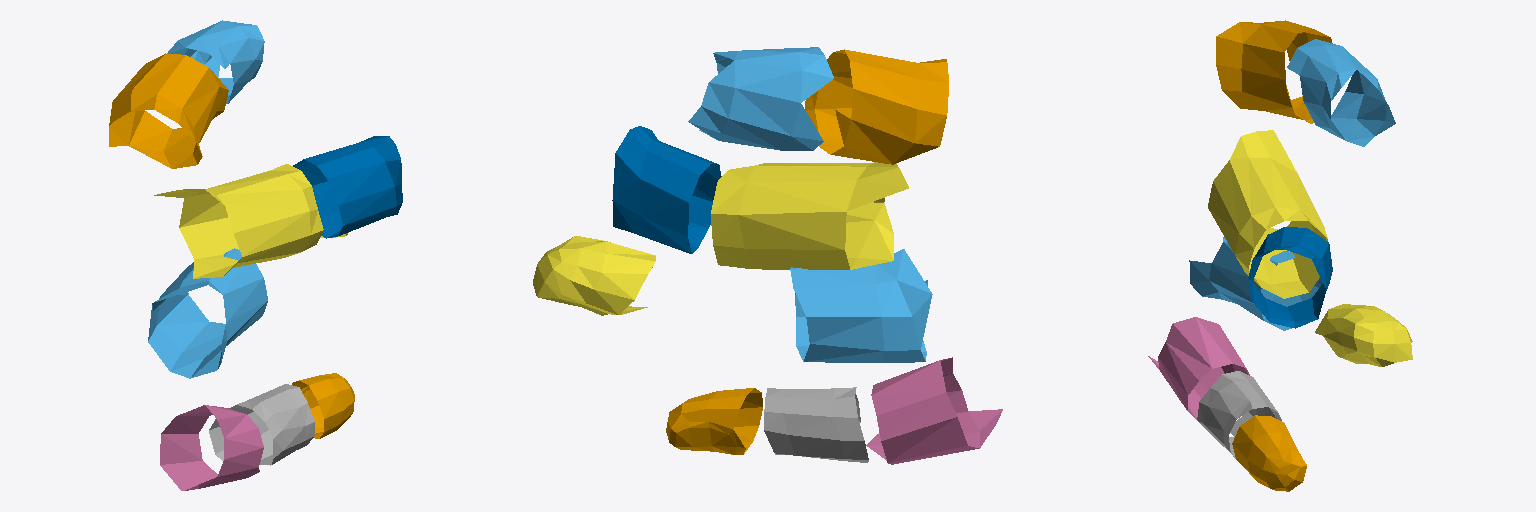
URDF robot description (mano_hand):
<robot name="mano_hand">
  <link name="root">
    <mass value="0.01"/>
    <inertial>
      <origin xyz="0 0 0" rpy="0 0 0"/>
      <mass value="0.01"/>
      <inertia ixx="1E-06" ixy="0" ixz="0" iyy="1E-06" iyz="0" izz="1E-06"/>
    </inertial>
  </link>
  <joint name="L_forearm_tx_link_joint" type="prismatic">
    <parent link="L_forearm_tx_link"/>
    <child link="L_forearm_ty_link"/>
    <axis xyz="1 0 0"/>
    <limit lower="-2.0" upper="2.0" effort="100" velocity="5"/>
  </joint>
  <link name="L_forearm_tx_link">
    <mass value="0.01"/>
  </link>
  <joint name="L_forearm_ty_link_joint" type="prismatic">
    <parent link="L_forearm_ty_link"/>
    <child link="L_forearm_tz_link"/>
    <axis xyz="0 1 0"/>
    <limit lower="-2.0" upper="2.0" effort="100" velocity="5"/>
  </joint>
  <link name="L_forearm_ty_link">
    <mass value="0.01"/>
  </link>
  <joint name="L_forearm_tz_link_joint" type="prismatic">
    <parent link="L_forearm_tz_link"/>
    <child link="L_forearm_roll_link"/>
    <axis xyz="0 0 1"/>
    <limit lower="-2.0" upper="2.0" effort="100" velocity="5"/>
  </joint>
  <link name="L_forearm_tz_link">
    <mass value="0.01"/>
  </link>
  <joint name="L_forearm_roll_link_joint" type="revolute">
    <parent link="L_forearm_roll_link"/>
    <child link="L_forearm_pitch_link"/>
    <axis xyz="0 0 1"/>
    <limit lower="-6.2" upper="6.2" effort="100" velocity="5"/>
  </joint>
  <link name="L_forearm_roll_link">
    <mass value="0.01"/>
  </link>
  <joint name="L_forearm_pitch_link_joint" type="revolute">
    <parent link="L_forearm_pitch_link"/>
    <child link="L_forearm_yaw_link"/>
    <axis xyz="1 0 0"/>
    <limit lower="-6.2" upper="6.2" effort="100" velocity="5"/>
  </joint>
  <link name="L_forearm_pitch_link">
    <mass value="0.01"/>
  </link>
  <joint name="L_forearm_yaw_link_joint" type="revolute">
    <parent link="L_forearm_yaw_link"/>
    <child link="hand"/>
    <axis xyz="0 -1 0"/>
    <limit lower="-6.2" upper="6.2" effort="100" velocity="5"/>
  </joint>
  <link name="L_forearm_yaw_link">
    <mass value="0.01"/>
  </link>
  <link name="hand">
    <inertial>
      <origin xyz="0 0 0" rpy="0 0 0"/>
      <mass value="0.01"/>
      <inertia ixx="1e-06" ixy="0" ixz="0" iyy="1e-06" iyz="0" izz="1e-06"/>
    </inertial>
    <visual>
      <origin xyz="0 0 0" rpy="0 0 0"/>
      <geometry>
        <mesh filename="meshes\hand.stl"/>
      </geometry>
    </visual>
    <collision>
      <origin xyz="0 0 0" rpy="0 0 0"/>
      <geometry>
        <mesh filename="meshes\hand.stl"/>
      </geometry>
    </collision>
  </link>
  <link name="link_joint_1">
    <inertial>
      <origin xyz="0 0 0" rpy="0 0 0"/>
      <mass value="0.01"/>
      <inertia ixx="1e-06" ixy="0" ixz="0" iyy="1e-06" iyz="0" izz="1e-06"/>
    </inertial>
    <visual>
      <geometry>
        <mesh filename="meshes\link_joint_1.stl"/>
      </geometry>
    </visual>
    <collision>
      <origin xyz="0 0 0" rpy="0 0 0"/>
      <geometry>
        <mesh filename="meshes\link_joint_1.stl"/>
      </geometry>
    </collision>
  </link>
  <link name="link_joint_2">
    <inertial>
      <origin xyz="0 0 0" rpy="0 0 0"/>
      <mass value="0.01"/>
      <inertia ixx="1e-06" ixy="0" ixz="0" iyy="1e-06" iyz="0" izz="1e-06"/>
    </inertial>
    <visual>
      <geometry>
        <mesh filename="meshes\link_joint_2.stl"/>
      </geometry>
    </visual>
    <collision>
      <origin xyz="0 0 0" rpy="0 0 0"/>
      <geometry>
        <mesh filename="meshes\link_joint_2.stl"/>
      </geometry>
    </collision>
  </link>
  <link name="link_joint_3">
    <inertial>
      <origin xyz="0 0 0" rpy="0 0 0"/>
      <mass value="0.01"/>
      <inertia ixx="1e-06" ixy="0" ixz="0" iyy="1e-06" iyz="0" izz="1e-06"/>
    </inertial>
    <visual>
      <geometry>
        <mesh filename="meshes\link_joint_3.stl"/>
      </geometry>
    </visual>
    <collision>
      <origin xyz="0 0 0" rpy="0 0 0"/>
      <geometry>
        <mesh filename="meshes\link_joint_3.stl"/>
      </geometry>
    </collision>
  </link>
  <link name="link_joint_4">
    <inertial>
      <origin xyz="0 0 0" rpy="0 0 0"/>
      <mass value="0.01"/>
      <inertia ixx="1e-06" ixy="0" ixz="0" iyy="1e-06" iyz="0" izz="1e-06"/>
    </inertial>
    <visual>
      <geometry>
        <mesh filename="meshes\link_joint_4.stl"/>
      </geometry>
    </visual>
    <collision>
      <origin xyz="0 0 0" rpy="0 0 0"/>
      <geometry>
        <mesh filename="meshes\link_joint_4.stl"/>
      </geometry>
    </collision>
  </link>
  <link name="link_joint_5">
    <inertial>
      <origin xyz="0 0 0" rpy="0 0 0"/>
      <mass value="0.01"/>
      <inertia ixx="1e-06" ixy="0" ixz="0" iyy="1e-06" iyz="0" izz="1e-06"/>
    </inertial>
    <visual>
      <geometry>
        <mesh filename="meshes\link_joint_5.stl"/>
      </geometry>
    </visual>
    <collision>
      <origin xyz="0 0 0" rpy="0 0 0"/>
      <geometry>
        <mesh filename="meshes\link_joint_5.stl"/>
      </geometry>
    </collision>
  </link>
  <link name="link_joint_6">
    <inertial>
      <origin xyz="0 0 0" rpy="0 0 0"/>
      <mass value="0.01"/>
      <inertia ixx="1e-06" ixy="0" ixz="0" iyy="1e-06" iyz="0" izz="1e-06"/>
    </inertial>
    <visual>
      <geometry>
        <mesh filename="meshes\link_joint_6.stl"/>
      </geometry>
    </visual>
    <collision>
      <origin xyz="0 0 0" rpy="0 0 0"/>
      <geometry>
        <mesh filename="meshes\link_joint_6.stl"/>
      </geometry>
    </collision>
  </link>
  <link name="link_joint_7">
    <inertial>
      <origin xyz="0 0 0" rpy="0 0 0"/>
      <mass value="0.01"/>
      <inertia ixx="1e-06" ixy="0" ixz="0" iyy="1e-06" iyz="0" izz="1e-06"/>
    </inertial>
    <visual>
      <geometry>
        <mesh filename="meshes\link_joint_7.stl"/>
      </geometry>
    </visual>
    <collision>
      <origin xyz="0 0 0" rpy="0 0 0"/>
      <geometry>
        <mesh filename="meshes\link_joint_7.stl"/>
      </geometry>
    </collision>
  </link>
  <link name="link_joint_8">
    <inertial>
      <origin xyz="0 0 0" rpy="0 0 0"/>
      <mass value="0.01"/>
      <inertia ixx="1e-06" ixy="0" ixz="0" iyy="1e-06" iyz="0" izz="1e-06"/>
    </inertial>
    <visual>
      <geometry>
        <mesh filename="meshes\link_joint_8.stl"/>
      </geometry>
    </visual>
    <collision>
      <origin xyz="0 0 0" rpy="0 0 0"/>
      <geometry>
        <mesh filename="meshes\link_joint_8.stl"/>
      </geometry>
    </collision>
  </link>
  <link name="link_joint_9">
    <inertial>
      <origin xyz="0 0 0" rpy="0 0 0"/>
      <mass value="0.01"/>
      <inertia ixx="1e-06" ixy="0" ixz="0" iyy="1e-06" iyz="0" izz="1e-06"/>
    </inertial>
    <visual>
      <geometry>
        <mesh filename="meshes\link_joint_9.stl"/>
      </geometry>
    </visual>
    <collision>
      <origin xyz="0 0 0" rpy="0 0 0"/>
      <geometry>
        <mesh filename="meshes\link_joint_9.stl"/>
      </geometry>
    </collision>
  </link>
  <link name="link_joint_10">
    <inertial>
      <origin xyz="0 0 0" rpy="0 0 0"/>
      <mass value="0.01"/>
      <inertia ixx="1e-06" ixy="0" ixz="0" iyy="1e-06" iyz="0" izz="1e-06"/>
    </inertial>
    <visual>
      <geometry>
        <mesh filename="meshes\link_joint_10.stl"/>
      </geometry>
    </visual>
    <collision>
      <origin xyz="0 0 0" rpy="0 0 0"/>
      <geometry>
        <mesh filename="meshes\link_joint_10.stl"/>
      </geometry>
    </collision>
  </link>
  <link name="link_joint_11">
    <inertial>
      <origin xyz="0 0 0" rpy="0 0 0"/>
      <mass value="0.01"/>
      <inertia ixx="1e-06" ixy="0" ixz="0" iyy="1e-06" iyz="0" izz="1e-06"/>
    </inertial>
    <visual>
      <geometry>
        <mesh filename="meshes\link_joint_11.stl"/>
      </geometry>
    </visual>
    <collision>
      <origin xyz="0 0 0" rpy="0 0 0"/>
      <geometry>
        <mesh filename="meshes\link_joint_11.stl"/>
      </geometry>
    </collision>
  </link>
  <link name="link_joint_12">
    <inertial>
      <origin xyz="0 0 0" rpy="0 0 0"/>
      <mass value="0.01"/>
      <inertia ixx="1e-06" ixy="0" ixz="0" iyy="1e-06" iyz="0" izz="1e-06"/>
    </inertial>
    <visual>
      <geometry>
        <mesh filename="meshes\link_joint_12.stl"/>
      </geometry>
    </visual>
    <collision>
      <origin xyz="0 0 0" rpy="0 0 0"/>
      <geometry>
        <mesh filename="meshes\link_joint_12.stl"/>
      </geometry>
    </collision>
  </link>
  <link name="link_joint_13">
    <inertial>
      <origin xyz="0 0 0" rpy="0 0 0"/>
      <mass value="0.01"/>
      <inertia ixx="1e-06" ixy="0" ixz="0" iyy="1e-06" iyz="0" izz="1e-06"/>
    </inertial>
    <visual>
      <geometry>
        <mesh filename="meshes\link_joint_13.stl"/>
      </geometry>
    </visual>
    <collision>
      <origin xyz="0 0 0" rpy="0 0 0"/>
      <geometry>
        <mesh filename="meshes\link_joint_13.stl"/>
      </geometry>
    </collision>
  </link>
  <link name="link_joint_14">
    <inertial>
      <origin xyz="0 0 0" rpy="0 0 0"/>
      <mass value="0.01"/>
      <inertia ixx="1e-06" ixy="0" ixz="0" iyy="1e-06" iyz="0" izz="1e-06"/>
    </inertial>
    <visual>
      <geometry>
        <mesh filename="meshes\link_joint_14.stl"/>
      </geometry>
    </visual>
    <collision>
      <origin xyz="0 0 0" rpy="0 0 0"/>
      <geometry>
        <mesh filename="meshes\link_joint_14.stl"/>
      </geometry>
    </collision>
  </link>
  <link name="link_joint_15">
    <inertial>
      <origin xyz="0 0 0" rpy="0 0 0"/>
      <mass value="0.01"/>
      <inertia ixx="1e-06" ixy="0" ixz="0" iyy="1e-06" iyz="0" izz="1e-06"/>
    </inertial>
    <visual>
      <geometry>
        <mesh filename="meshes\link_joint_15.stl"/>
      </geometry>
    </visual>
    <collision>
      <origin xyz="0 0 0" rpy="0 0 0"/>
      <geometry>
        <mesh filename="meshes\link_joint_15.stl"/>
      </geometry>
    </collision>
  </link>
  <joint name="joint_hand_to_link_joint_0" type="fixed">
    <parent link="root"/>
    <child link="L_forearm_tx_link"/>
    <origin xyz="0 0 0" rpy="0 0 0"/>
    <axis xyz="0 0 1"/>
  </joint>
  <joint name="joint_hand_to_link_joint_1" type="revolute">
    <parent link="hand"/>
    <child link="link_joint_1"/>
    <origin xyz="0 0 0" rpy="0 0 0"/>
    <axis xyz="0 0 1"/>
    <limit lower="-0.1" upper="0.1" effort="50" velocity="0.1"/>
  </joint>
  <joint name="joint_hand_to_link_joint_2" type="revolute">
    <parent link="link_joint_1"/>
    <child link="link_joint_2"/>
    <origin xyz="0 0 0" rpy="0 0 0"/>
    <axis xyz="0 0 1"/>
    <limit lower="-0.1" upper="0.1" effort="50" velocity="0.1"/>
  </joint>
  <joint name="joint_hand_to_link_joint_3" type="revolute">
    <parent link="link_joint_2"/>
    <child link="link_joint_3"/>
    <origin xyz="0 0 0" rpy="0 0 0"/>
    <axis xyz="0 0 1"/>
    <limit lower="-0.1" upper="0.1" effort="50" velocity="0.1"/>
  </joint>
  <joint name="joint_hand_to_link_joint_4" type="revolute">
    <parent link="hand"/>
    <child link="link_joint_4"/>
    <origin xyz="0 0 0" rpy="0 0 0"/>
    <axis xyz="0 0 1"/>
    <limit lower="-0.1" upper="0.1" effort="50" velocity="0.1"/>
  </joint>
  <joint name="joint_hand_to_link_joint_5" type="revolute">
    <parent link="link_joint_4"/>
    <child link="link_joint_5"/>
    <origin xyz="0 0 0" rpy="0 0 0"/>
    <axis xyz="0 0 1"/>
    <limit lower="-0.1" upper="0.1" effort="50" velocity="0.1"/>
  </joint>
  <joint name="joint_hand_to_link_joint_6" type="revolute">
    <parent link="link_joint_5"/>
    <child link="link_joint_6"/>
    <origin xyz="0 0 0" rpy="0 0 0"/>
    <axis xyz="0 0 1"/>
    <limit lower="-0.1" upper="0.1" effort="50" velocity="0.1"/>
  </joint>
  <joint name="joint_hand_to_link_joint_7" type="revolute">
    <parent link="hand"/>
    <child link="link_joint_7"/>
    <origin xyz="0 0 0" rpy="0 0 0"/>
    <axis xyz="0 0 1"/>
    <limit lower="-0.1" upper="0.1" effort="50" velocity="0.1"/>
  </joint>
  <joint name="joint_hand_to_link_joint_8" type="revolute">
    <parent link="link_joint_7"/>
    <child link="link_joint_8"/>
    <origin xyz="0 0 0" rpy="0 0 0"/>
    <axis xyz="0 0 1"/>
    <limit lower="-0.1" upper="0.1" effort="50" velocity="0.1"/>
  </joint>
  <joint name="joint_hand_to_link_joint_9" type="revolute">
    <parent link="link_joint_8"/>
    <child link="link_joint_9"/>
    <origin xyz="0 0 0" rpy="0 0 0"/>
    <axis xyz="0 0 1"/>
    <limit lower="-0.1" upper="0.1" effort="50" velocity="0.1"/>
  </joint>
  <joint name="joint_hand_to_link_joint_10" type="revolute">
    <parent link="hand"/>
    <child link="link_joint_10"/>
    <origin xyz="0 0 0" rpy="0 0 0"/>
    <axis xyz="0 0 1"/>
    <limit lower="-0.1" upper="0.1" effort="50" velocity="0.1"/>
  </joint>
  <joint name="joint_hand_to_link_joint_11" type="revolute">
    <parent link="link_joint_10"/>
    <child link="link_joint_11"/>
    <origin xyz="0 0 0" rpy="0 0 0"/>
    <axis xyz="0 0 1"/>
    <limit lower="-0.1" upper="0.1" effort="50" velocity="0.1"/>
  </joint>
  <joint name="joint_hand_to_link_joint_12" type="revolute">
    <parent link="link_joint_11"/>
    <child link="link_joint_12"/>
    <origin xyz="0 0 0" rpy="0 0 0"/>
    <axis xyz="0 0 1"/>
    <limit lower="-0.1" upper="0.1" effort="50" velocity="0.1"/>
  </joint>
  <joint name="joint_hand_to_link_joint_13" type="revolute">
    <parent link="hand"/>
    <child link="link_joint_13"/>
    <origin xyz="0 0 0" rpy="0 0 0"/>
    <axis xyz="0 0 1"/>
    <limit lower="-0.1" upper="0.1" effort="50" velocity="0.1"/>
  </joint>
  <joint name="joint_hand_to_link_joint_14" type="revolute">
    <parent link="link_joint_13"/>
    <child link="link_joint_14"/>
    <origin xyz="0 0 0" rpy="0 0 0"/>
    <axis xyz="0 0 1"/>
    <limit lower="-0.1" upper="0.1" effort="50" velocity="0.1"/>
  </joint>
  <joint name="joint_hand_to_link_joint_15" type="revolute">
    <parent link="link_joint_14"/>
    <child link="link_joint_15"/>
    <origin xyz="0 0 0" rpy="0 0 0"/>
    <axis xyz="0 0 1"/>
    <limit lower="-0.1" upper="0.1" effort="50" velocity="0.1"/>
  </joint>
</robot>

--- What the picture shows (computed from the rendered views, not written in the file) ---
Views: 3 orthographic renders of the robot side by side, from view 1: azimuth 30°, elevation 25°; view 2: azimuth 150°, elevation 25°; view 3: azimuth 270°, elevation 25°.
Model mano_hand with 23 links and 22 joints (18 revolute, 3 prismatic, 1 fixed), rooted at root, posed every joint at zero.
Links seen in each view (by area): view 1: link_joint_4, link_joint_1, link_joint_10, link_joint_5, link_joint_7, link_joint_8, link_joint_2, link_joint_9; view 2: link_joint_4, link_joint_1, link_joint_10, link_joint_2, link_joint_5, link_joint_7, link_joint_12, link_joint_8, link_joint_9; view 3: link_joint_4, link_joint_1, link_joint_2, link_joint_7, link_joint_12, link_joint_9, link_joint_5, link_joint_8, link_joint_10.
Link boxes in pixels (x1=…): link_joint_4: x1=154, y1=164, x2=323, y2=278; link_joint_1: x1=109, y1=53, x2=228, y2=168; link_joint_10: x1=148, y1=248, x2=267, y2=378; link_joint_5: x1=293, y1=136, x2=402, y2=238; link_joint_7: x1=160, y1=405, x2=263, y2=490; link_joint_8: x1=209, y1=384, x2=314, y2=465; link_joint_2: x1=167, y1=20, x2=264, y2=103; link_joint_9: x1=292, y1=373, x2=354, y2=438; link_joint_4: x1=711, y1=162, x2=908, y2=269; link_joint_1: x1=805, y1=49, x2=948, y2=164; link_joint_10: x1=790, y1=249, x2=932, y2=362; link_joint_2: x1=688, y1=47, x2=833, y2=150; link_joint_5: x1=612, y1=126, x2=721, y2=253; link_joint_7: x1=866, y1=357, x2=1002, y2=464; link_joint_12: x1=533, y1=236, x2=655, y2=315; link_joint_8: x1=764, y1=387, x2=868, y2=462; link_joint_9: x1=666, y1=388, x2=762, y2=454; link_joint_4: x1=1208, y1=130, x2=1327, y2=298; link_joint_1: x1=1216, y1=20, x2=1332, y2=123; link_joint_2: x1=1287, y1=39, x2=1395, y2=146; link_joint_7: x1=1148, y1=317, x2=1249, y2=419; link_joint_12: x1=1315, y1=304, x2=1412, y2=366; link_joint_9: x1=1232, y1=415, x2=1306, y2=491; link_joint_5: x1=1248, y1=227, x2=1332, y2=328; link_joint_8: x1=1197, y1=371, x2=1281, y2=458; link_joint_10: x1=1189, y1=237, x2=1322, y2=330.
Bounding box of the posed robot: 0.0795 × 0.0596 × 0.0966 m (x, y, z).
Meshes: 16 distinct files referenced, 9 mesh visuals loaded (9 binary STL); not drawn: 7 (reference not matched to a file when rendering).
